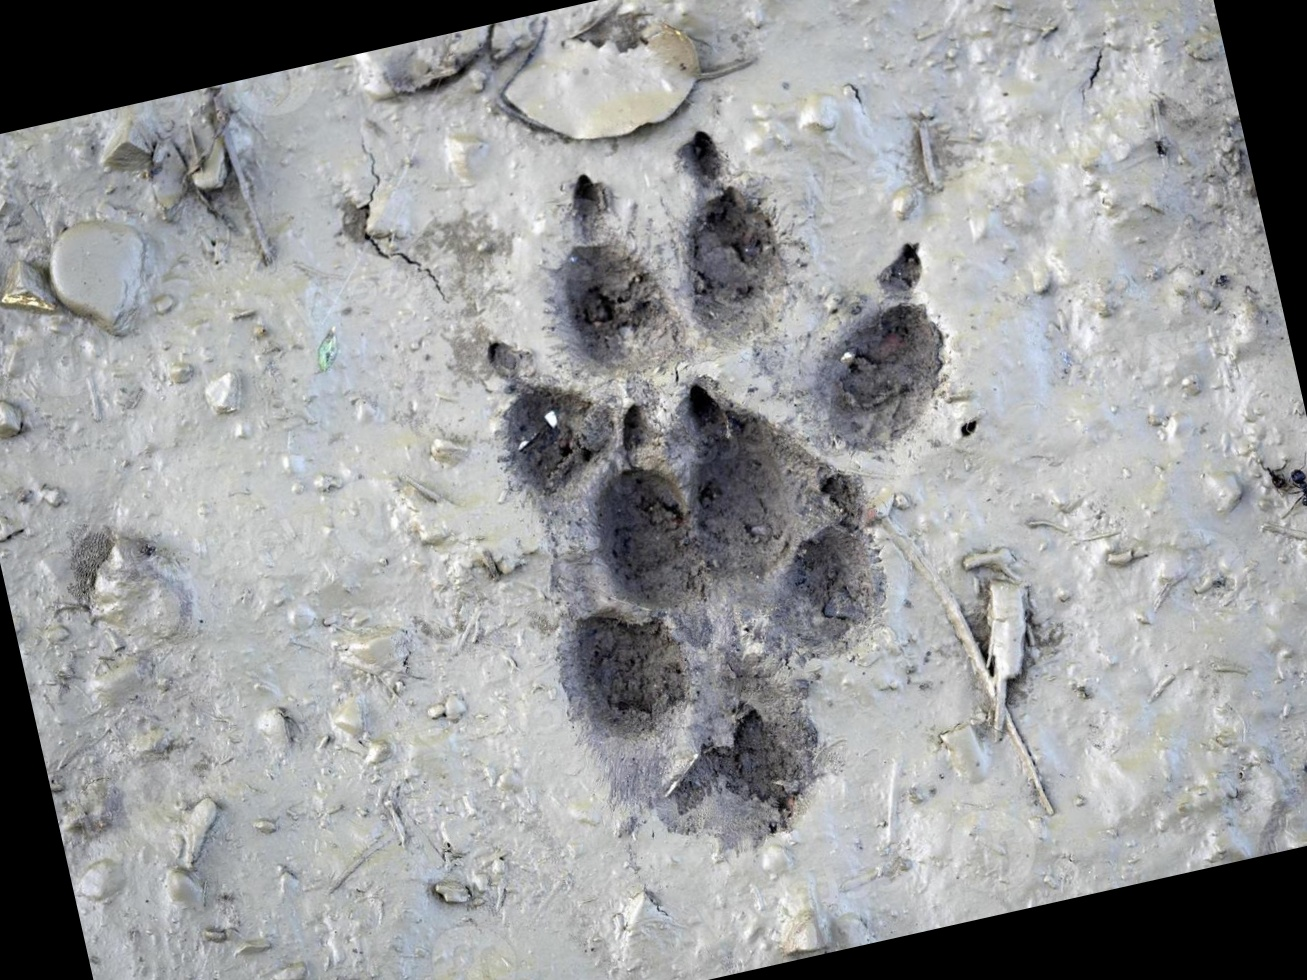coyote: (434, 79, 1052, 884)
